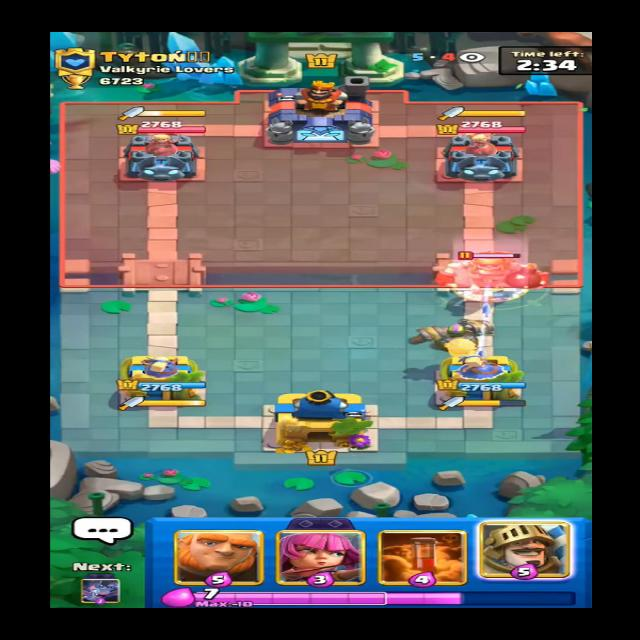giant-skeleton: (437, 246, 554, 302)
